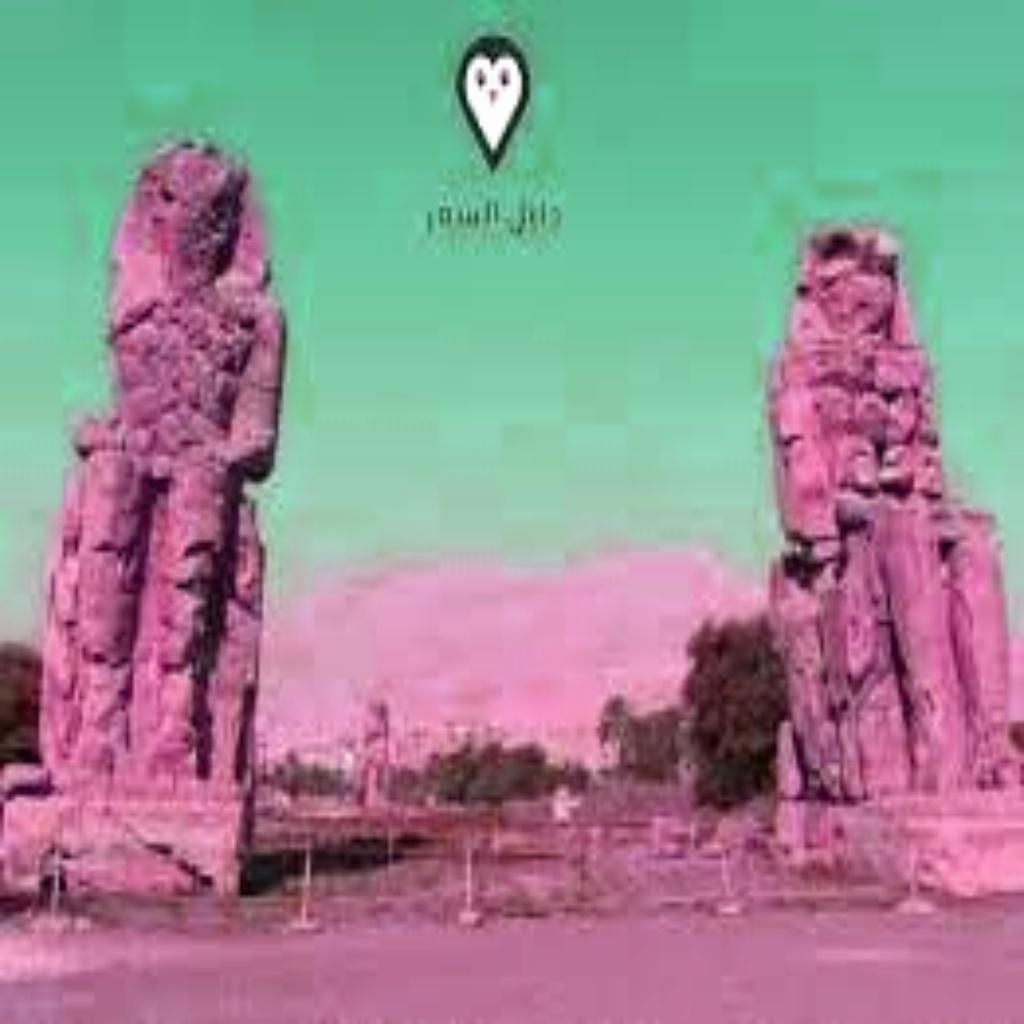Colossoi of Memnon: (4, 122, 294, 897), (759, 212, 1024, 904)
